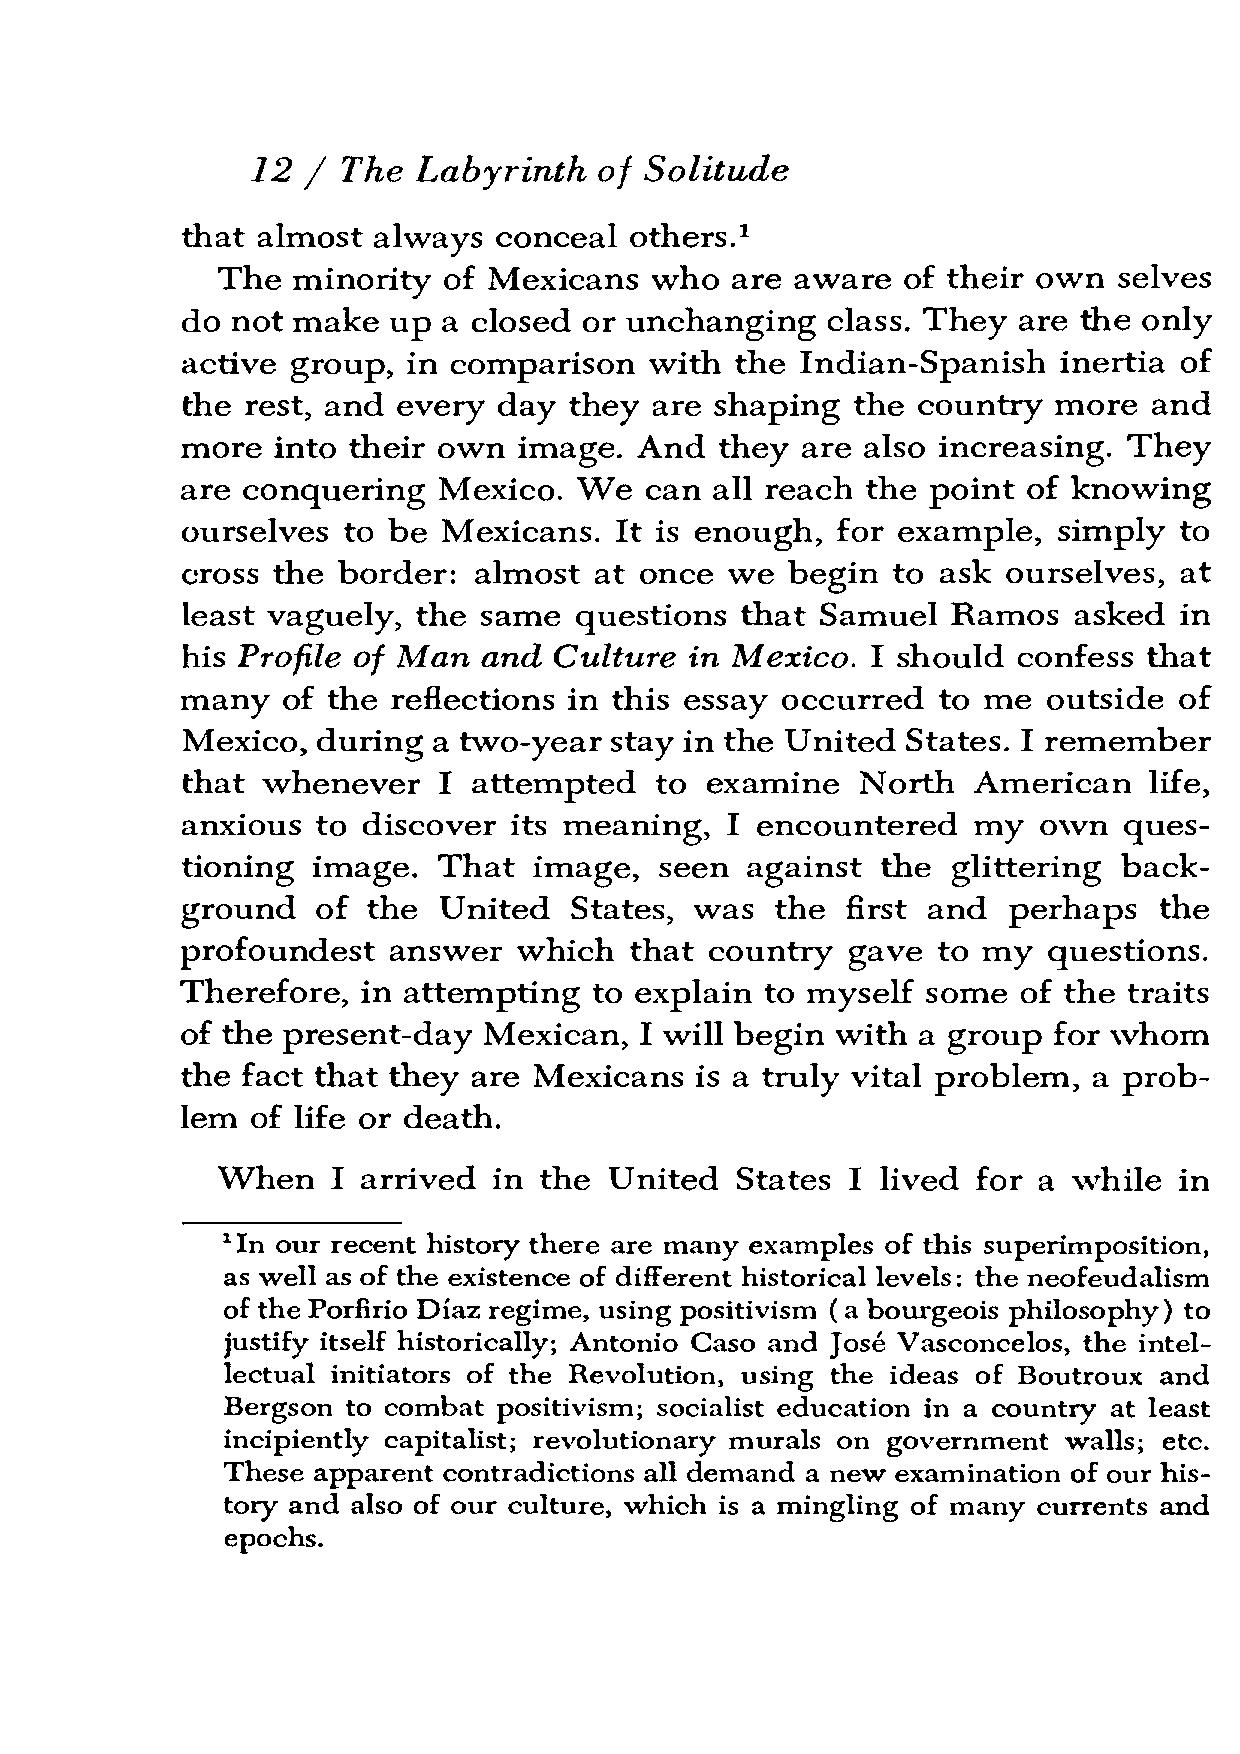content: (169, 213, 1217, 1555)
content_chapter: (335, 149, 794, 192)
content_pagenumber: (238, 136, 298, 196)
